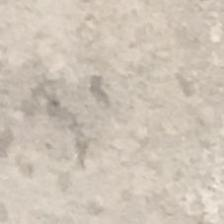Non_Crack: (31, 28, 224, 215)
